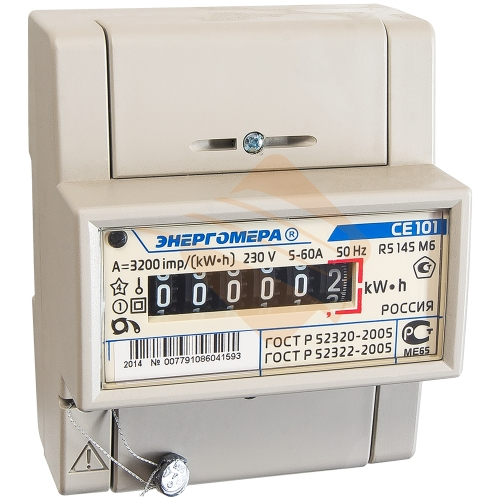counter: (53, 16, 474, 484)
counter_screen: (142, 258, 354, 319)
